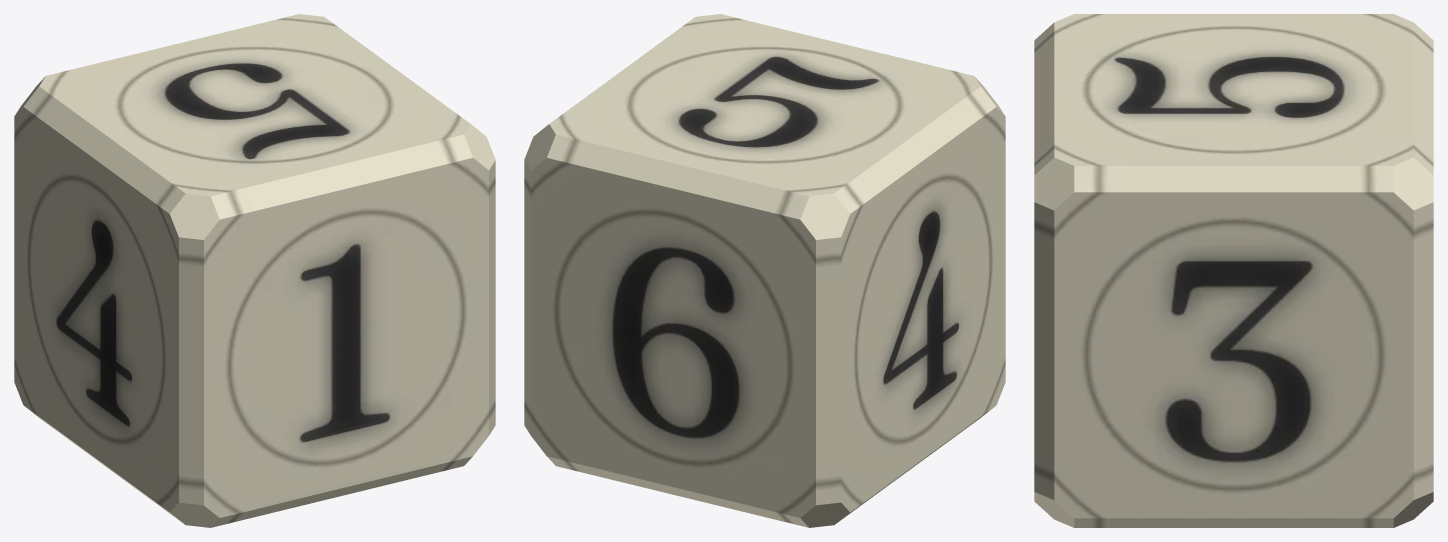
3 views of the same model, side by side, from view 1: azimuth 30°, elevation 25°; view 2: azimuth 150°, elevation 25°; view 3: azimuth 270°, elevation 25° (orthographic). The views are drawn at different scales.
Visible parts, largest first — view 1: D6; view 2: D6; view 3: D6.
Boxes of the visible parts, bbox=[...] form: D6: bbox=[14, 14, 495, 527]; D6: bbox=[524, 14, 1005, 527]; D6: bbox=[1034, 14, 1433, 527].
Size of the model in its own units: 2 by 2 by 2.
1 material, 1 textured.
